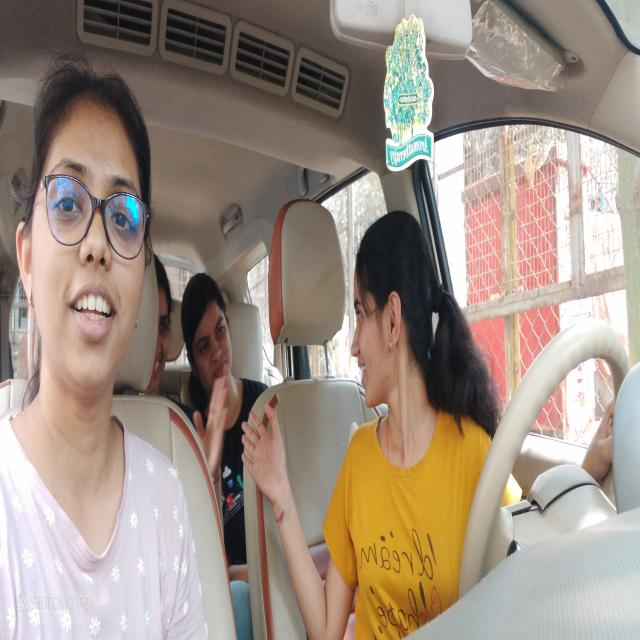LeftRight: (350, 248, 432, 412)
person: (38, 80, 147, 390), (188, 302, 241, 391), (159, 266, 177, 386)
talking: (353, 366, 374, 384)
